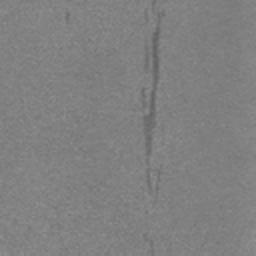Red iron sheet: (144, 27, 160, 156)
